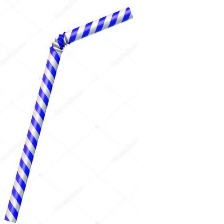drinking_straw: (0, 3, 137, 224)
